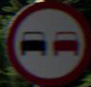No overtake: (8, 6, 84, 71)
